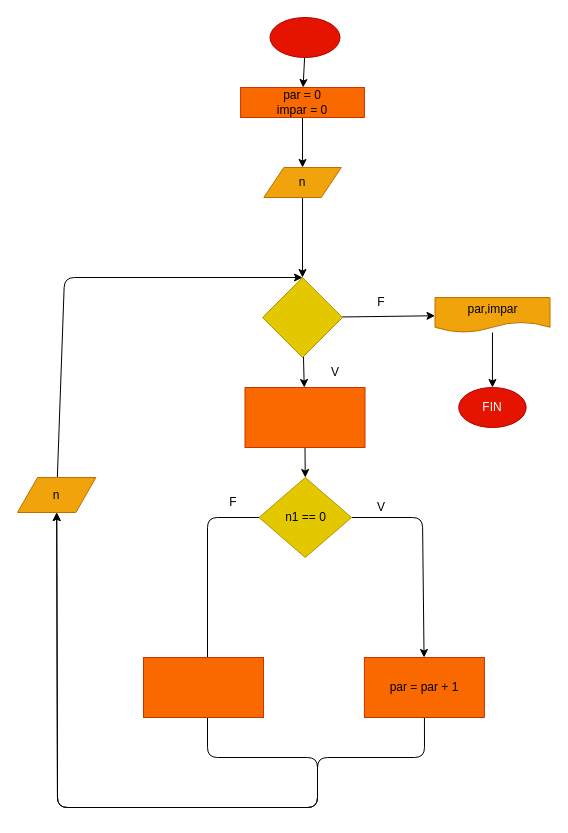
The diagram is 568 pixels wide and 833 high, and some of its shapes have lost their labels. Each missing label, with the centre of its shape:
"impar = impar +1" goes at point (203, 687).
"INICIO" goes at point (304, 37).
"n != 0" goes at point (302, 317).
"n1 = n % 2" goes at point (304, 417).
